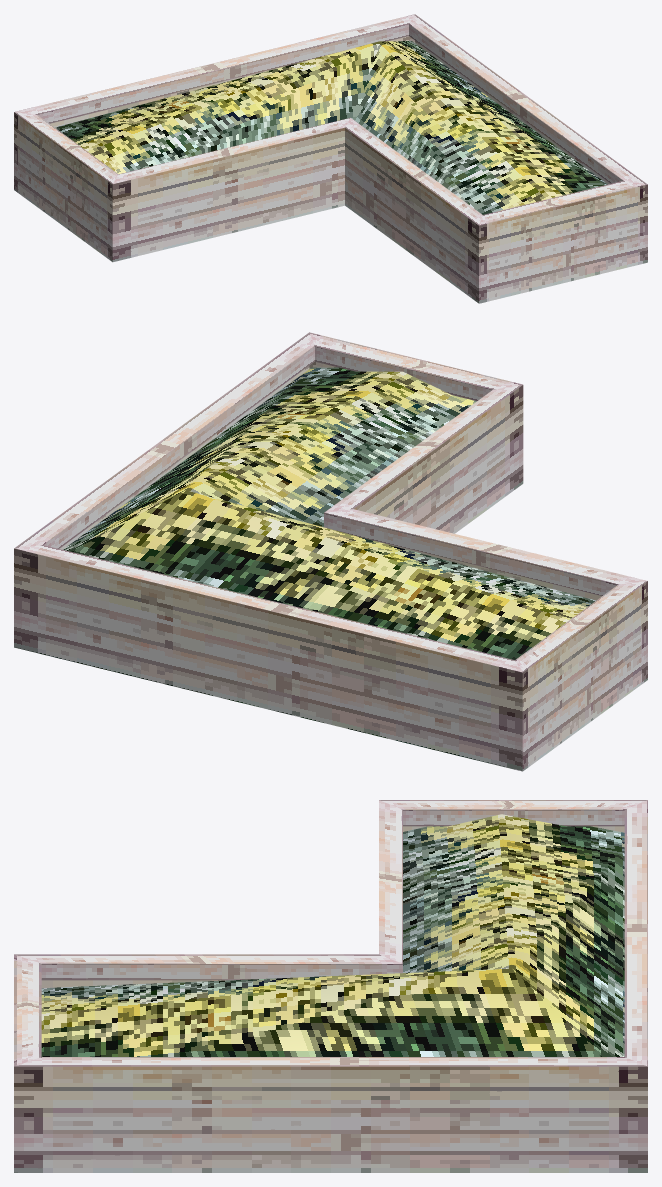
Rendered from Environment - Prop - Wd Plnt 01 - PMWdPlnt01.glb.
3 renders of one model, top to bottom at view 1: azimuth 30°, elevation 25°; view 2: azimuth 150°, elevation 25°; view 3: azimuth 270°, elevation 25°, orthographic. The views are drawn at different scales.
Visible parts, largest first — view 1: PMWDPLNT01; view 2: PMWDPLNT01; view 3: PMWDPLNT01.
Boxes of the visible parts, x1,y1,x2,y2 form: PMWDPLNT01: (14, 14, 647, 303); PMWDPLNT01: (14, 332, 647, 771); PMWDPLNT01: (14, 800, 647, 1172).
Size of the model in its own units: 34.54 by 8.91 by 34.73.
Materials: 1 (1 with a texture image).
